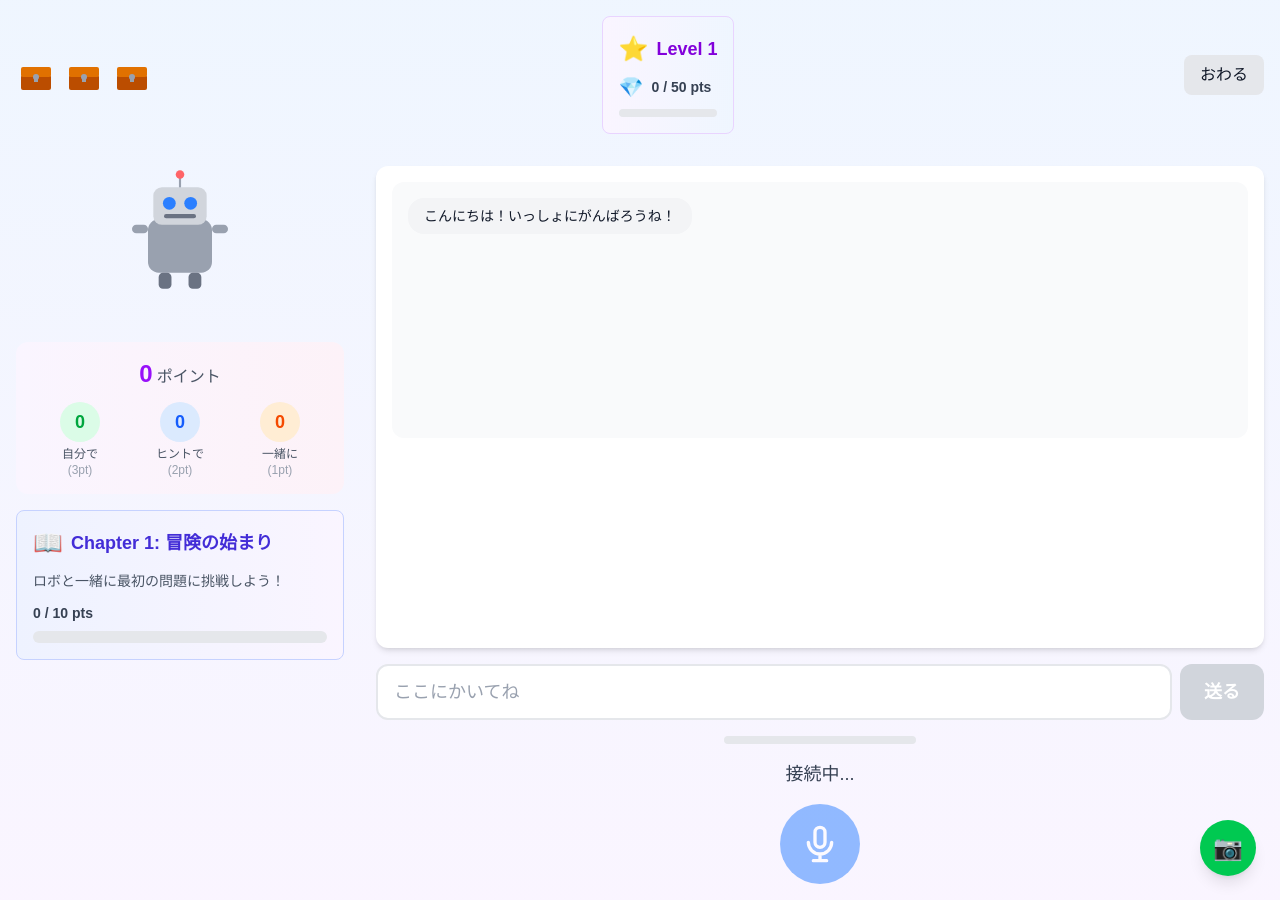
Test: SessionContent › フローティングカメラボタン › カメラボタンタップでCameraInterfaceオーバーレイが表示される
Expected: the element with placeholder "ここにかいてね" is shown, [0,150,360,899]
カメラボタンをタップ
Click the button named "しゃしんをとる": (1228, 848) [1200,820,1256,876]
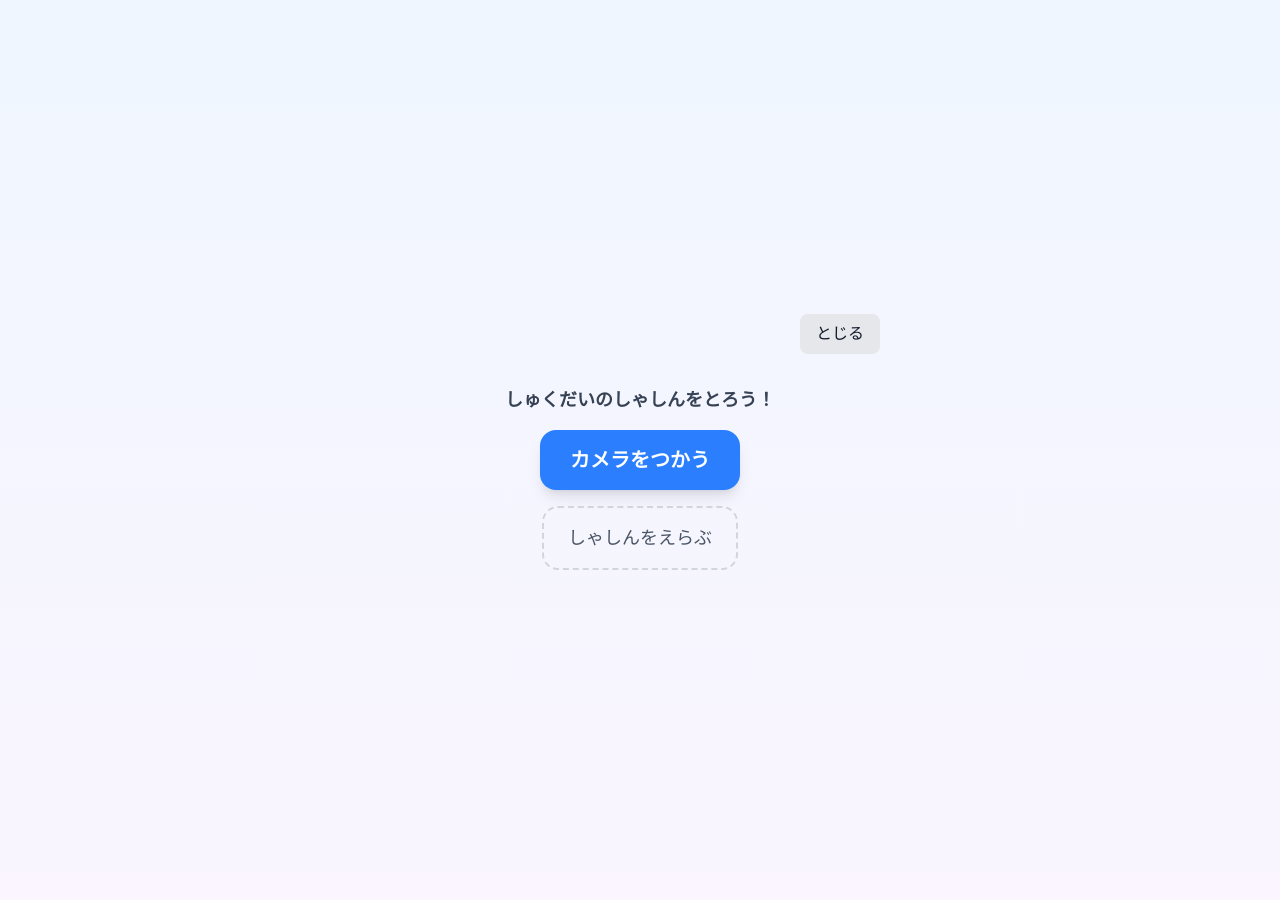
Expected: the text "しゅくだいのしゃしんをとろう！" is shown, [505,386,775,414]
